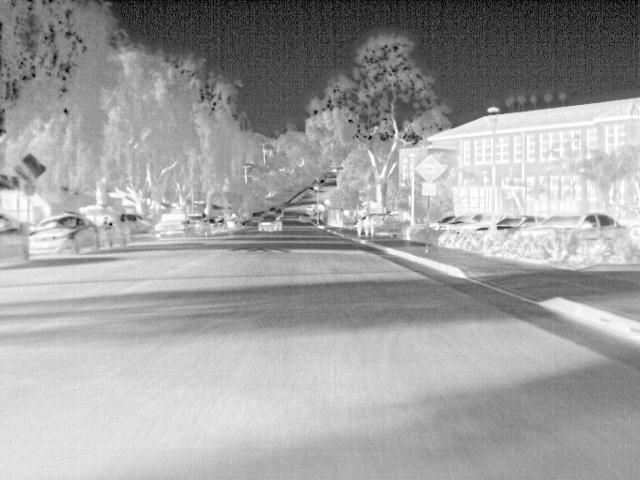car: (516, 210, 628, 258), (30, 212, 99, 256), (472, 216, 549, 248), (80, 204, 131, 250), (0, 211, 32, 263), (438, 212, 488, 240), (154, 211, 188, 237), (427, 211, 456, 235), (618, 213, 639, 242), (131, 212, 153, 234), (259, 214, 282, 230), (189, 212, 203, 234), (212, 216, 228, 234), (225, 214, 240, 230), (203, 216, 216, 234), (299, 212, 313, 225), (273, 208, 286, 220), (250, 210, 264, 221)
person: (362, 216, 374, 236), (354, 218, 366, 238), (368, 218, 378, 237)
